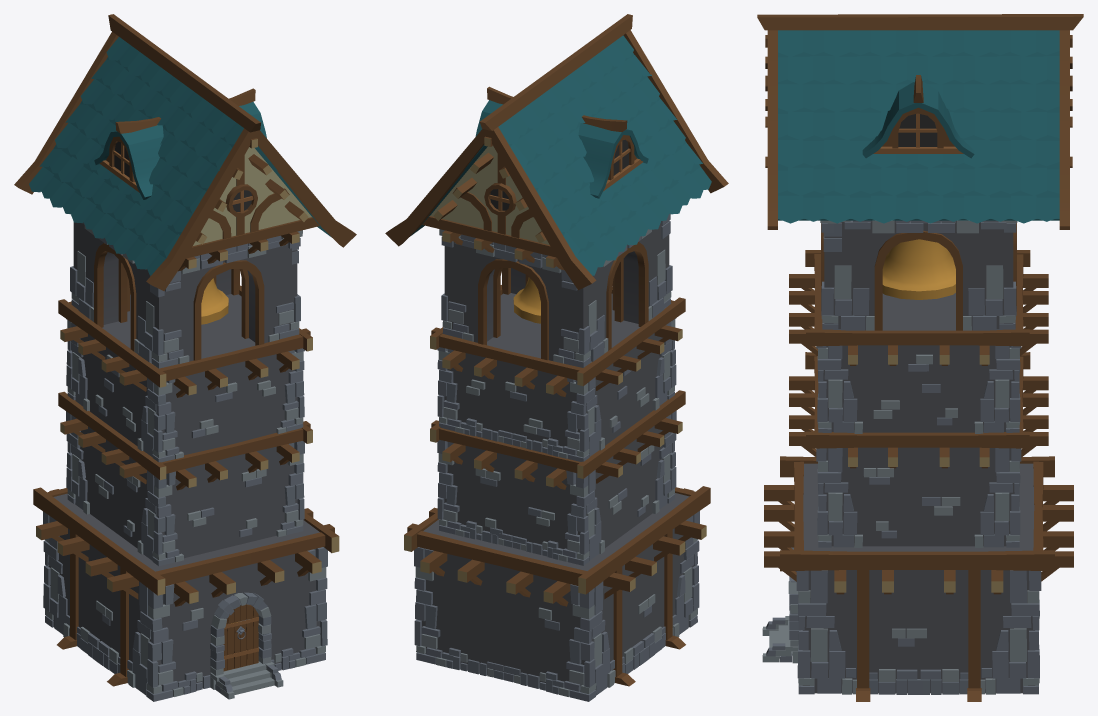
Rendered from Bell_Tower_Baked.obj.
3 views of the same model, side by side, from view 1: azimuth 30°, elevation 25°; view 2: azimuth 150°, elevation 25°; view 3: azimuth 270°, elevation 25° (orthographic). The views are drawn at different scales.
Parts seen in each view (by area): view 1: Bell_Tower_Cube.296; view 2: Bell_Tower_Cube.296; view 3: Bell_Tower_Cube.296.
Part boxes in pixels (box(x1,y1,x2,y2)): Bell_Tower_Cube.296: box(14, 14, 356, 701); Bell_Tower_Cube.296: box(385, 14, 728, 701); Bell_Tower_Cube.296: box(757, 14, 1083, 701).
Bounding box in the file's own units: 1.94 × 4.76 × 2.23.
Materials: 1 (1 with a texture image).
